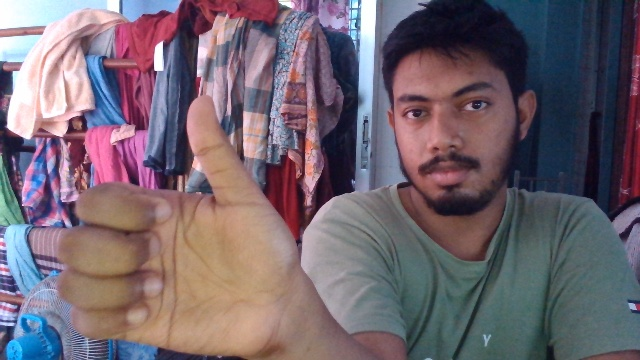yes: (54, 90, 304, 358)
